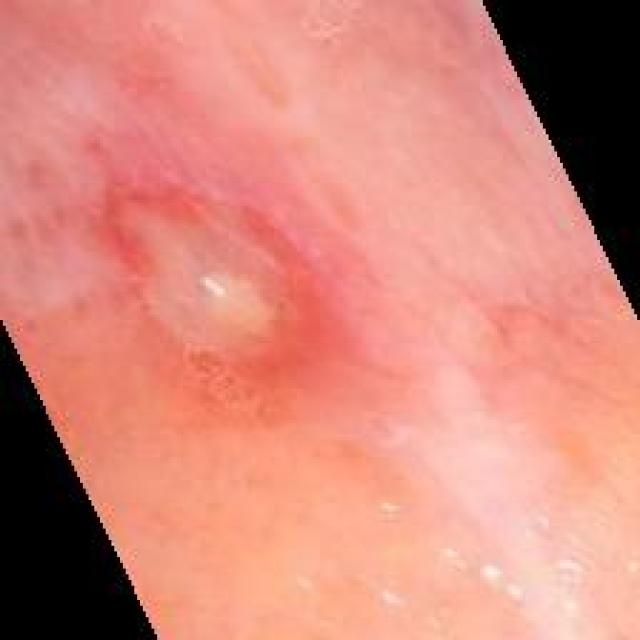others: (24, 53, 530, 513)
